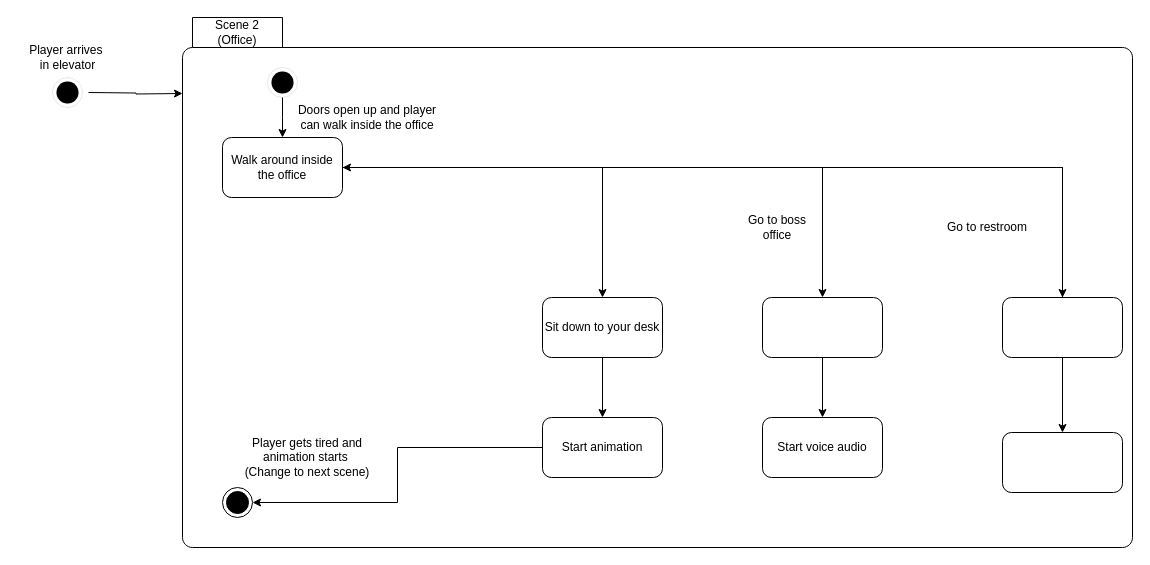
Some shapes in this 1150 by 565 pixel diagram are drawn without their labels. Each missing label, with the box of its shape:
Click on door to restroom: (1002, 296, 1122, 358)
Listen to open door: (762, 296, 882, 358)
Receive achievement: (1002, 432, 1122, 492)
